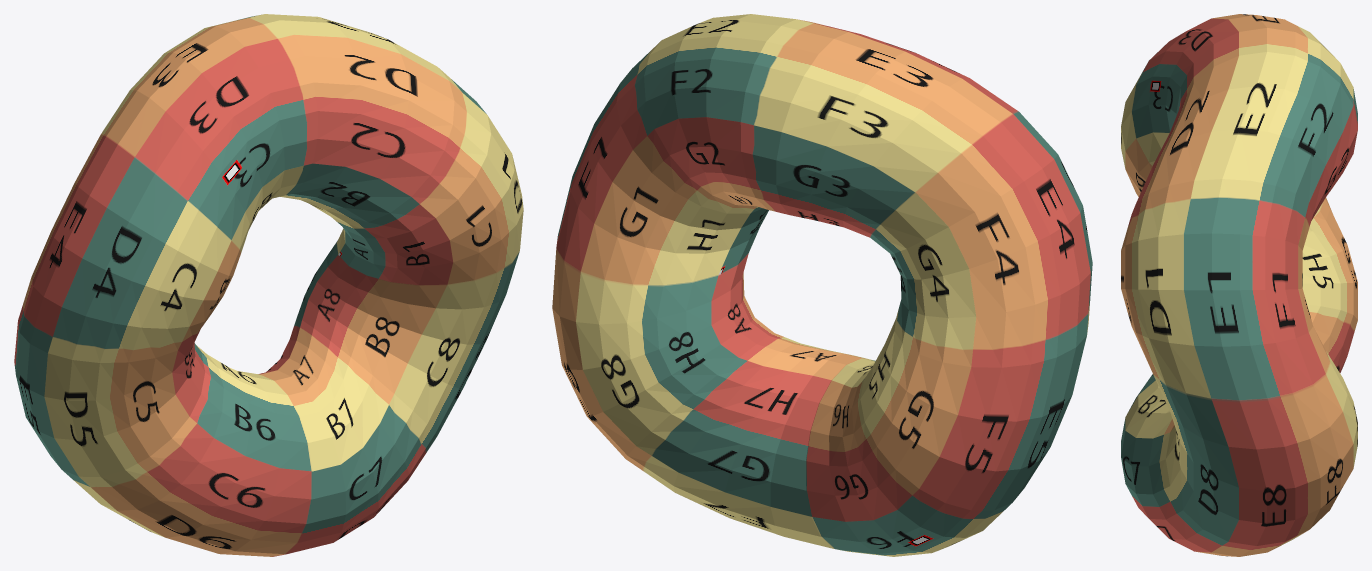
3 views of the same model, side by side, from view 1: azimuth 30°, elevation 25°; view 2: azimuth 150°, elevation 25°; view 3: azimuth 270°, elevation 25° (orthographic). The views are drawn at different scales.
Parts seen in each view (by area): view 1: Node-Mesh; view 2: Node-Mesh; view 3: Node-Mesh.
Part boxes in pixels (x1=…): Node-Mesh: x1=14, y1=14, x2=523, y2=556; Node-Mesh: x1=552, y1=14, x2=1092, y2=556; Node-Mesh: x1=1121, y1=14, x2=1357, y2=556.
Size of the model in its own units: 3 by 2.98 by 1.3.
1 material, 1 textured.
